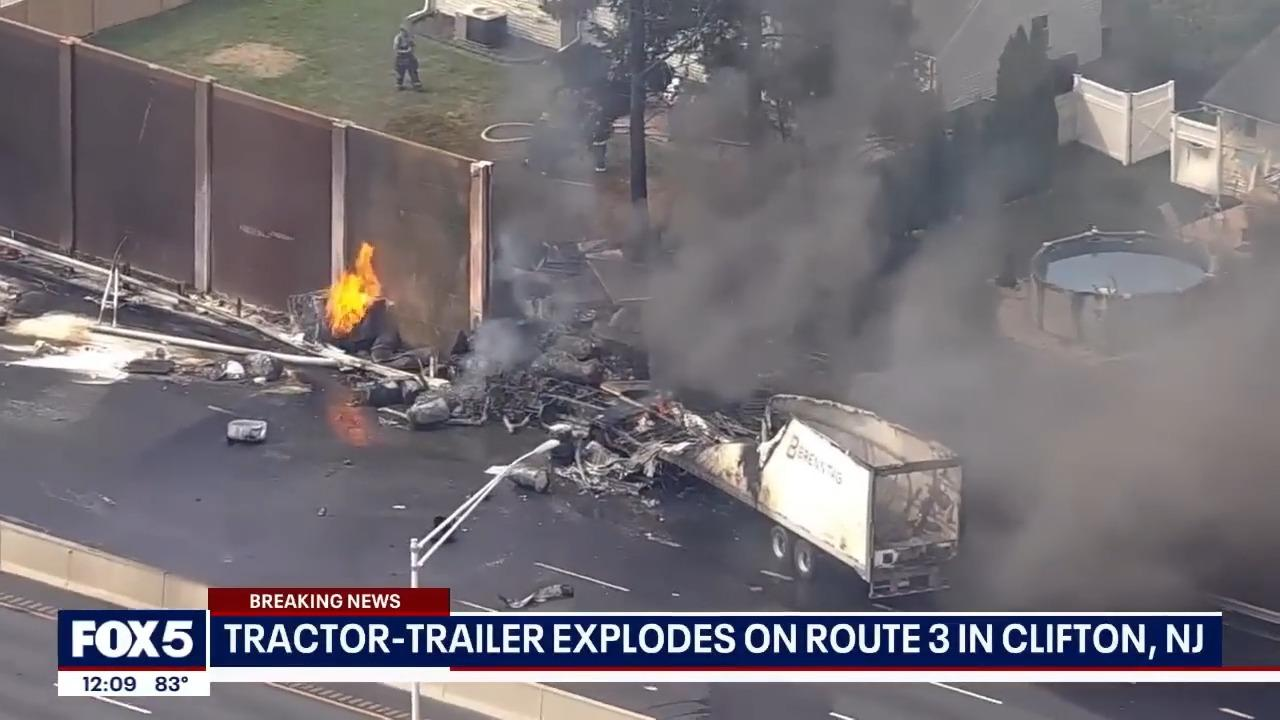fire: (307, 235, 393, 345)
